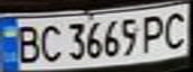3: (63, 19, 87, 62)
6: (84, 18, 106, 61), (103, 16, 124, 58)
9: (118, 15, 145, 56)
B: (9, 21, 45, 64)
C: (157, 8, 193, 51), (36, 21, 63, 63)
P: (136, 11, 172, 54)
